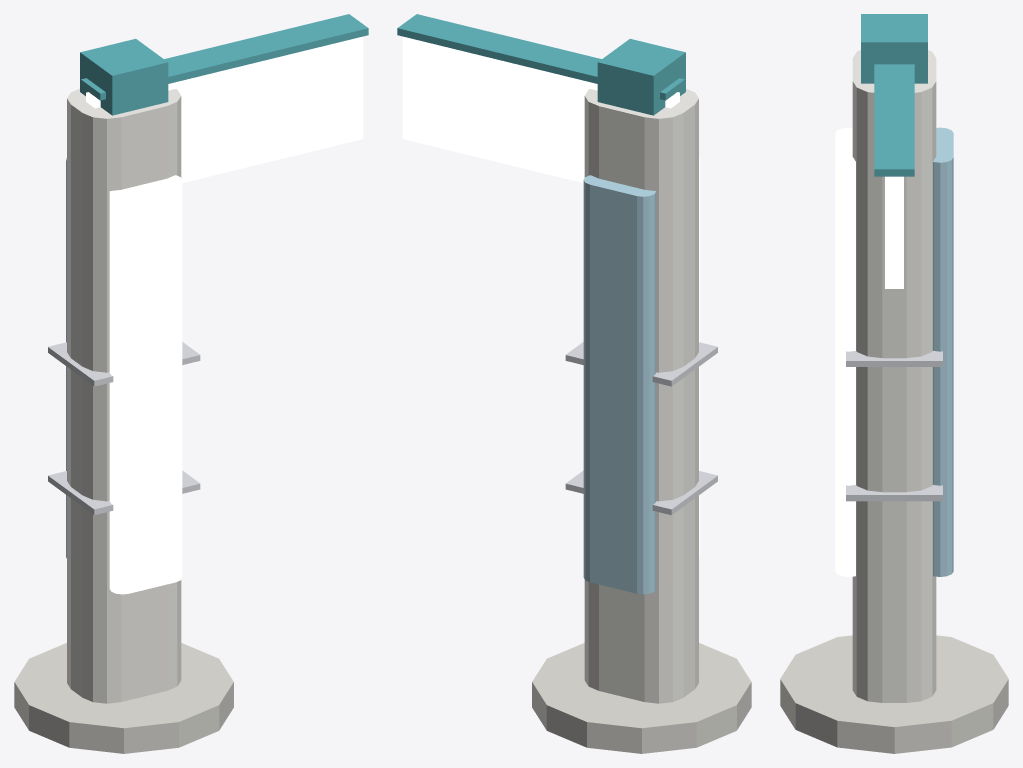
The model's file is arcology-towers-and-skyways-signage-pylon-holographic-46ca02cb__23271.glb.
The picture shows the model from 3 angles, left to right: view 1: azimuth 30°, elevation 25°; view 2: azimuth 150°, elevation 25°; view 3: azimuth 270°, elevation 25°; orthographic projection. The views are drawn at different scales.
Parts seen in each view (by area): view 1: signage-pylon-holographic; view 2: signage-pylon-holographic; view 3: signage-pylon-holographic.
Part boxes in pixels (x1,y1,x2,y2): signage-pylon-holographic: [14, 14, 368, 753]; signage-pylon-holographic: [397, 14, 751, 753]; signage-pylon-holographic: [780, 14, 1008, 753].
Size of the model in its own units: 2.95 by 5.56 by 1.7.
